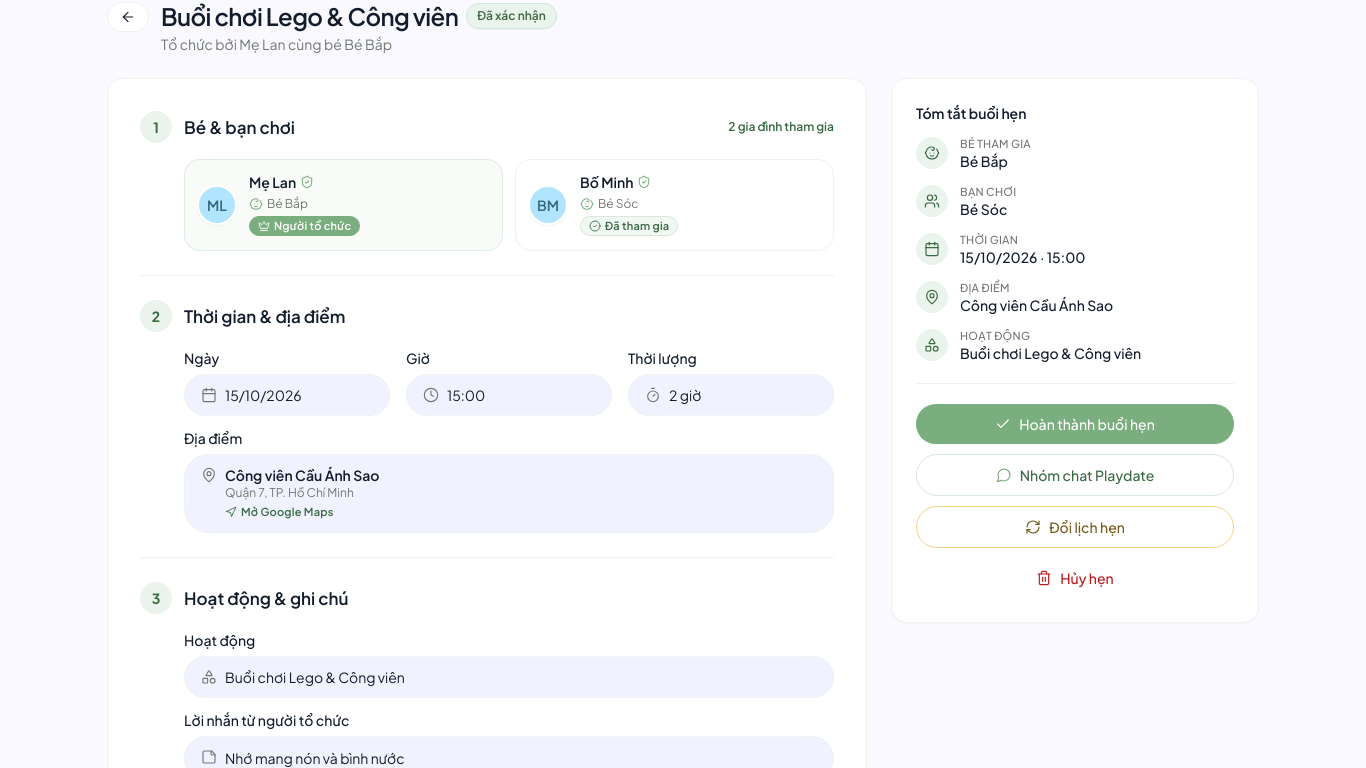
Test: PlaydateDetailPage Component › opens reschedule modal when clicking "Đổi lịch hẹn"
Click the button "Đổi lịch hẹn" at (1075, 527), box left=916, top=506, right=1234, bottom=548
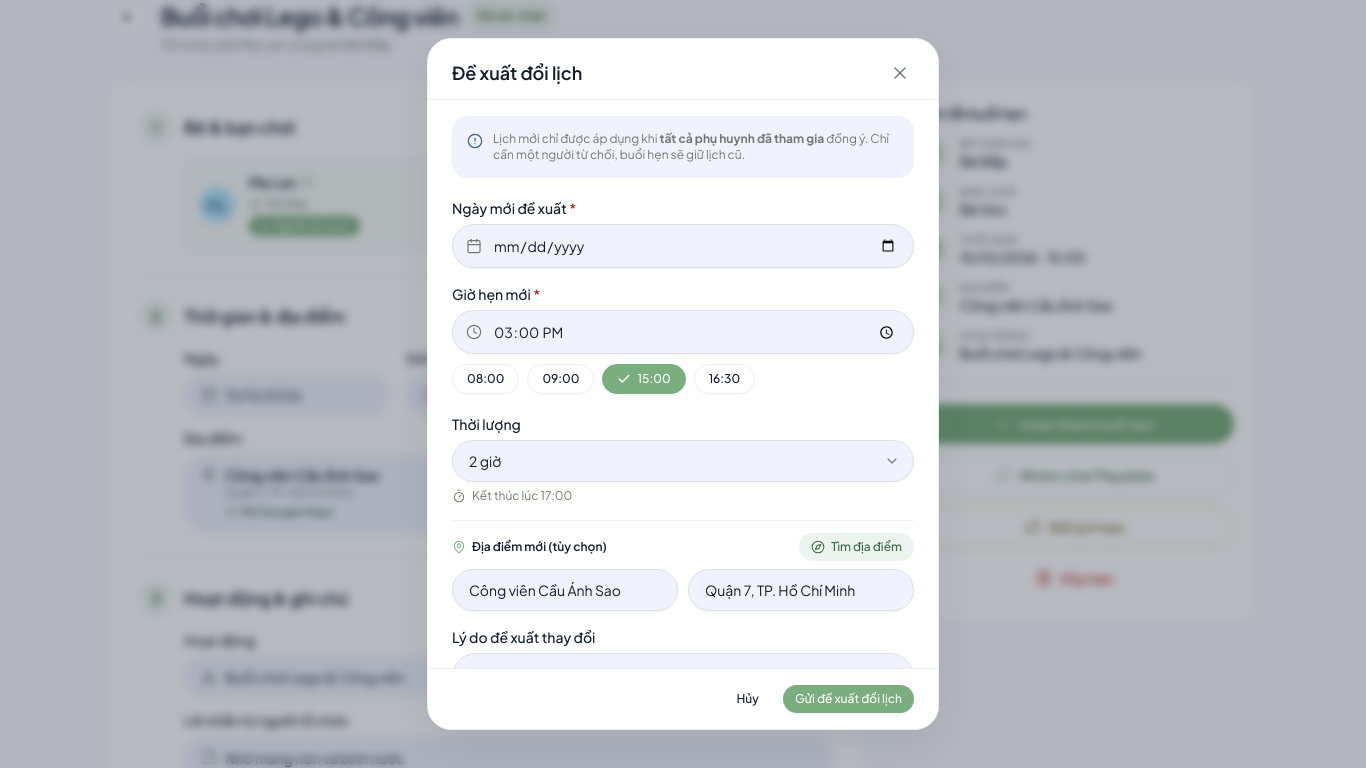
Now the heading "Đề xuất đổi lịch" is shown, box left=452, top=59, right=582, bottom=87
Now the text "tất cả phụ huynh đã tham gia" is shown, box left=659, top=131, right=824, bottom=146
